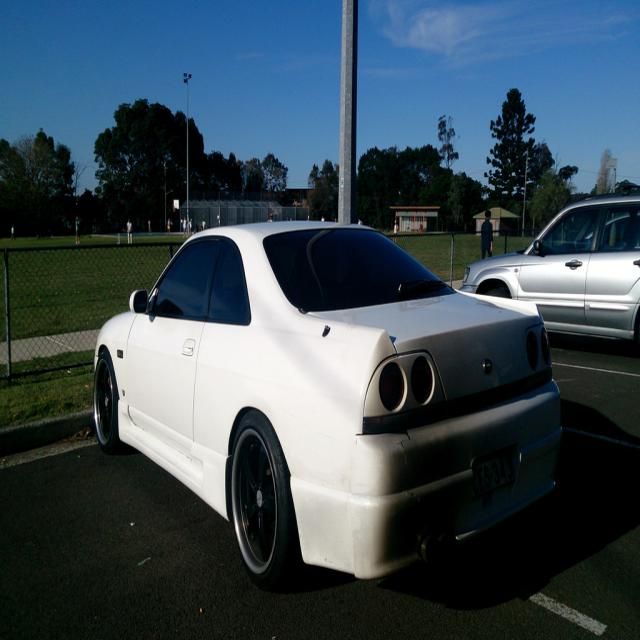car: (85, 216, 567, 588)
